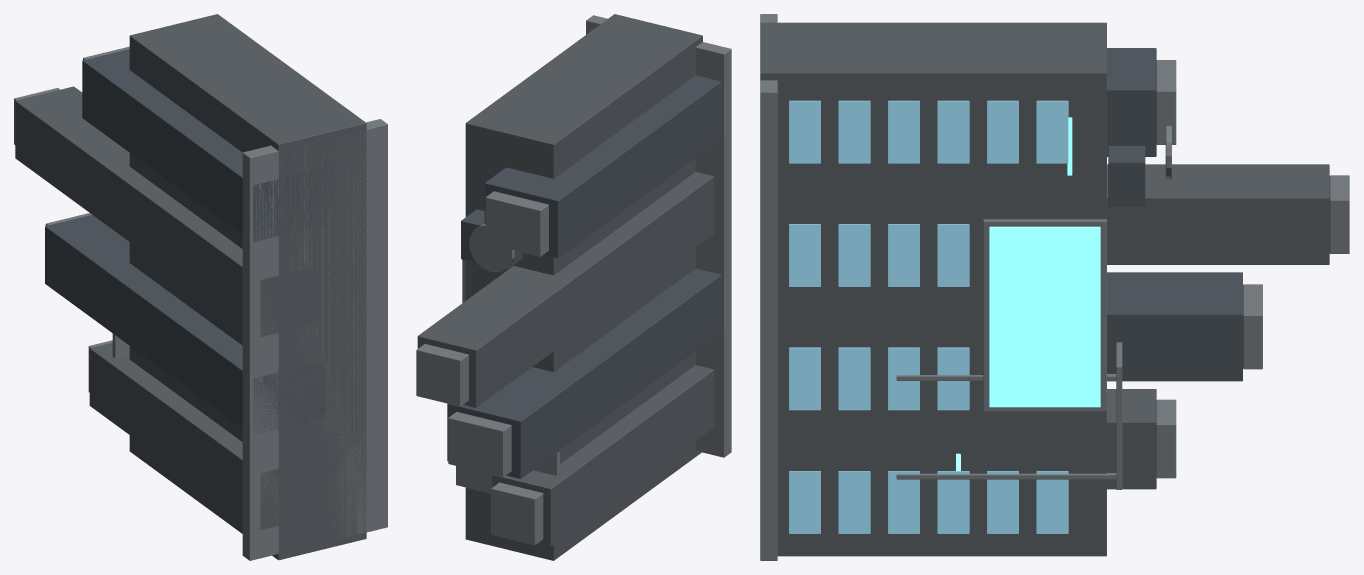
File: far_facade_shell_yard_l.glb
3 views of the same model, side by side, from view 1: azimuth 30°, elevation 25°; view 2: azimuth 150°, elevation 25°; view 3: azimuth 270°, elevation 25° (orthographic). The views are drawn at different scales.
Visible parts, largest first — view 1: FlightKit_FarFacadeMass_yard_L; view 2: FlightKit_FarFacadeMass_yard_L; view 3: FlightKit_FarFacadeMass_yard_L.
Boxes of the visible parts, x1,y1,x2,y2 form: FlightKit_FarFacadeMass_yard_L: [14, 14, 387, 560]; FlightKit_FarFacadeMass_yard_L: [416, 14, 731, 560]; FlightKit_FarFacadeMass_yard_L: [760, 14, 1349, 560].
Bounding box in the file's own units: 7.5 × 21.56 × 23.8.
